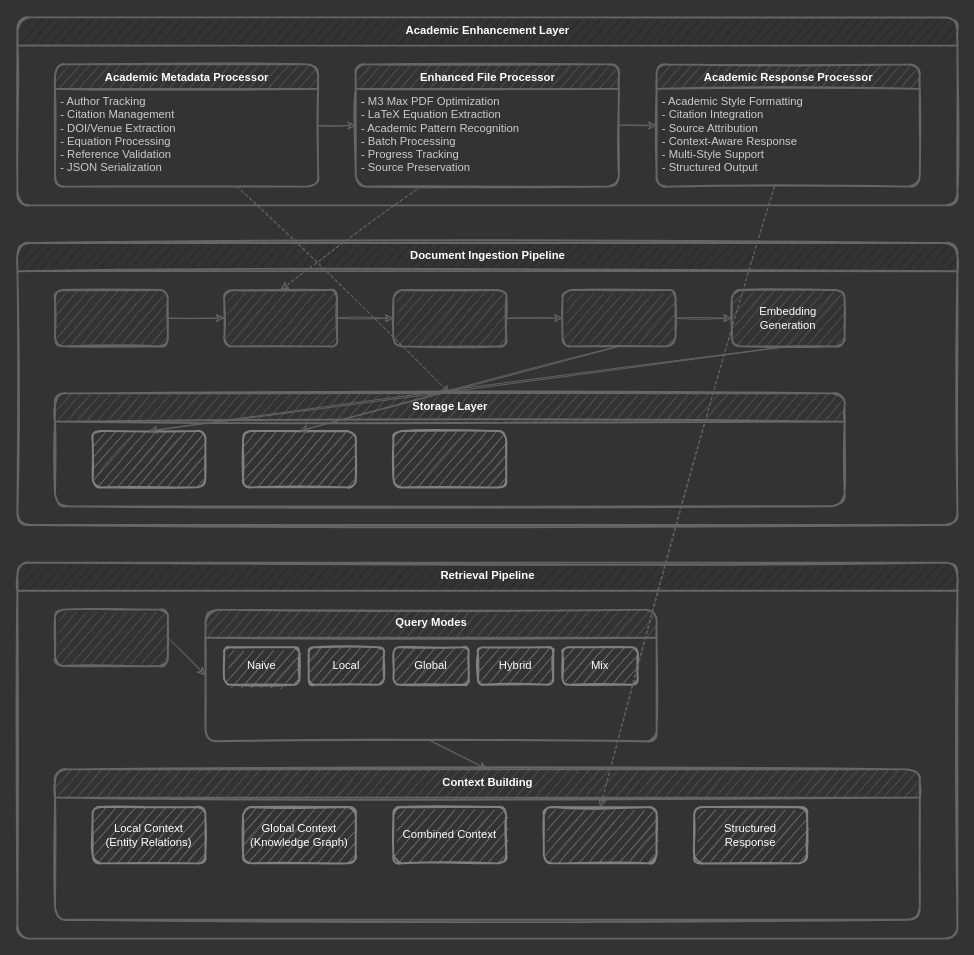
The diagram is 974 pixels wide and 955 high, and some of its shapes have lost their labels. Each missing label, with the centre of its shape:
"Entity & Relation Extraction (LLM)" goes at point (618, 318).
"Input Documents (PDF, DOC, TXT)" goes at point (111, 318).
"Knowledge Graph (Neo4j/Oracle)" goes at point (299, 459).
"KV Store (Metadata)" goes at point (449, 459).
"LLM Response Generation" goes at point (599, 835).
"Query Input" goes at point (111, 637).
"Text Chunking" goes at point (449, 318).
"Text Extraction (textract)" goes at point (280, 318).
"Vector DB (Embeddings)" goes at point (148, 459).
